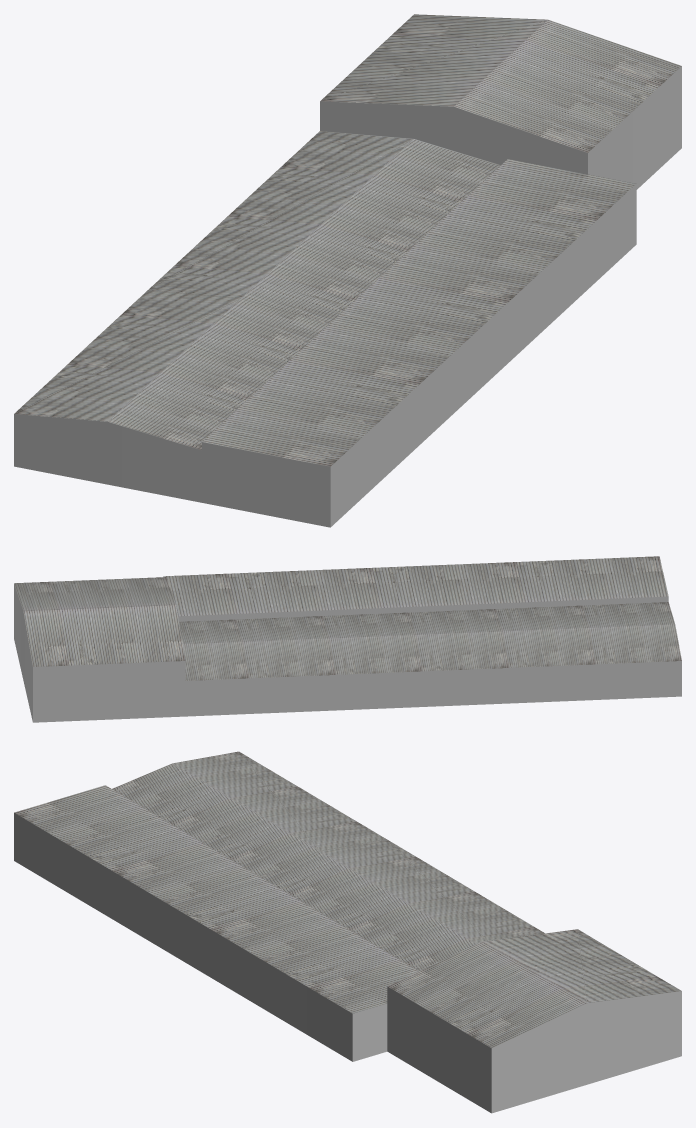
The model's file is SM_GenericBuilding_15.fbx.
The picture shows the model from 3 angles, top to bottom: view 1: azimuth 30°, elevation 25°; view 2: azimuth 150°, elevation 25°; view 3: azimuth 270°, elevation 25°; orthographic projection. The views are drawn at different scales.
Visible parts, largest first — view 1: SM_GenericBuilding_15; view 2: SM_GenericBuilding_15; view 3: SM_GenericBuilding_15.
Part boxes in pixels (left/top/right/bottom): SM_GenericBuilding_15: left=14, top=14, right=681, bottom=527; SM_GenericBuilding_15: left=14, top=556, right=681, bottom=722; SM_GenericBuilding_15: left=14, top=751, right=681, bottom=1113.
Size of the model in its own units: 3320 by 394 by 2926.
